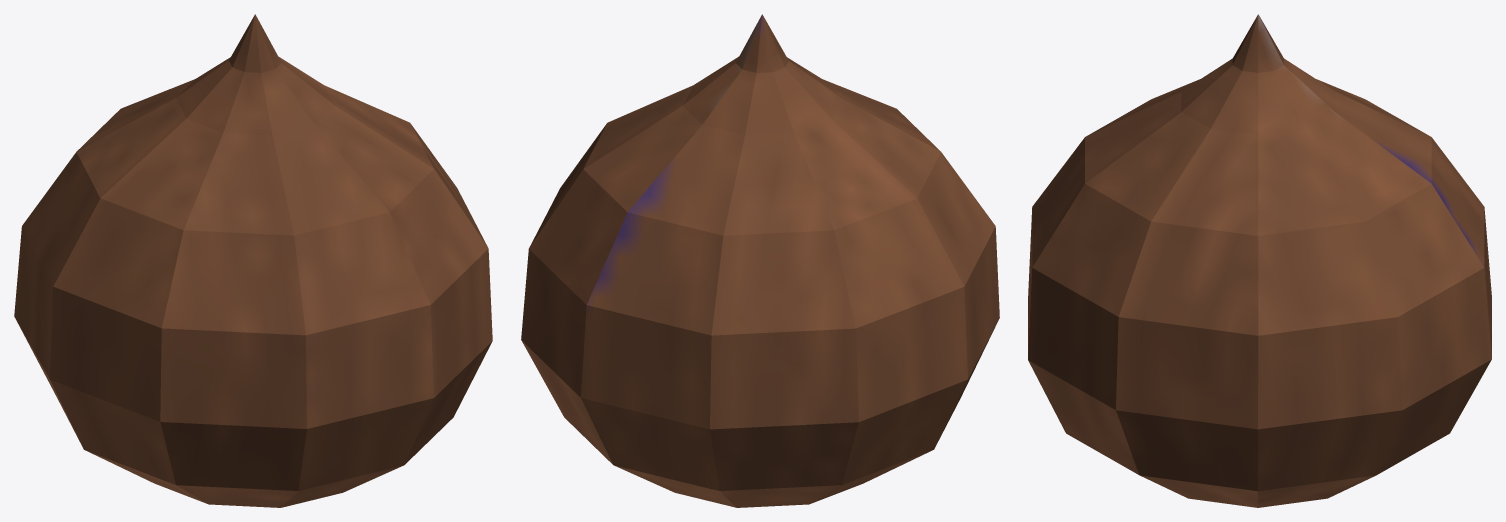
The model's file is Onion.fbx.
The picture shows the model from 3 angles, left to right: view 1: azimuth 30°, elevation 25°; view 2: azimuth 150°, elevation 25°; view 3: azimuth 270°, elevation 25°; orthographic projection.
Visible parts, largest first — view 1: pSphere2; view 2: pSphere2; view 3: pSphere2.
Part boxes in pixels (left/top/right/bottom): pSphere2: left=14, top=14, right=492, bottom=507; pSphere2: left=521, top=14, right=999, bottom=507; pSphere2: left=1028, top=14, right=1491, bottom=507.
Size of the model in its own units: 45.76 by 51.02 by 44.75.
